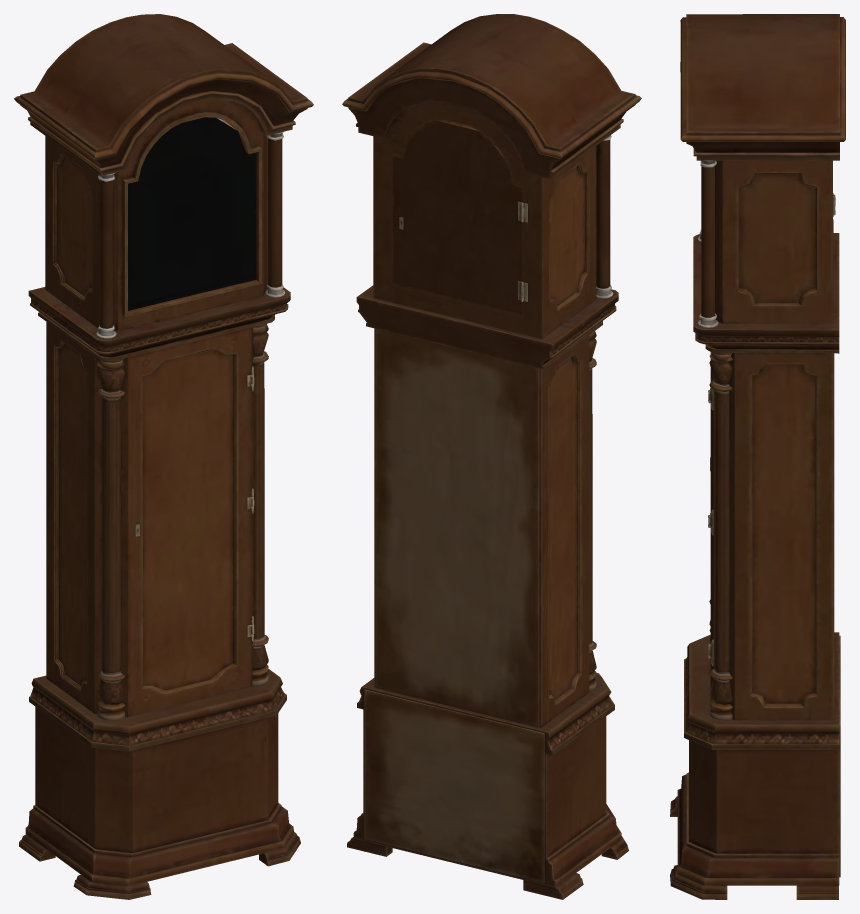
File: vintage_grandfather_clock_01.glb
The picture shows the model from 3 angles, left to right: view 1: azimuth 30°, elevation 25°; view 2: azimuth 150°, elevation 25°; view 3: azimuth 270°, elevation 25°; orthographic projection. The views are drawn at different scales.
Parts seen in each view (by area): view 1: vintage_grandfather_clock_01_body; view 2: vintage_grandfather_clock_01_body; view 3: vintage_grandfather_clock_01_body.
Part boxes in pixels (x1,y1,x2,y2): vintage_grandfather_clock_01_body: (14, 14, 313, 899); vintage_grandfather_clock_01_body: (342, 14, 641, 899); vintage_grandfather_clock_01_body: (670, 14, 845, 899).
Bounding box in the file's own units: 0.6255 × 2.19 × 0.4265.
Materials: 2 (2 with a texture image).
